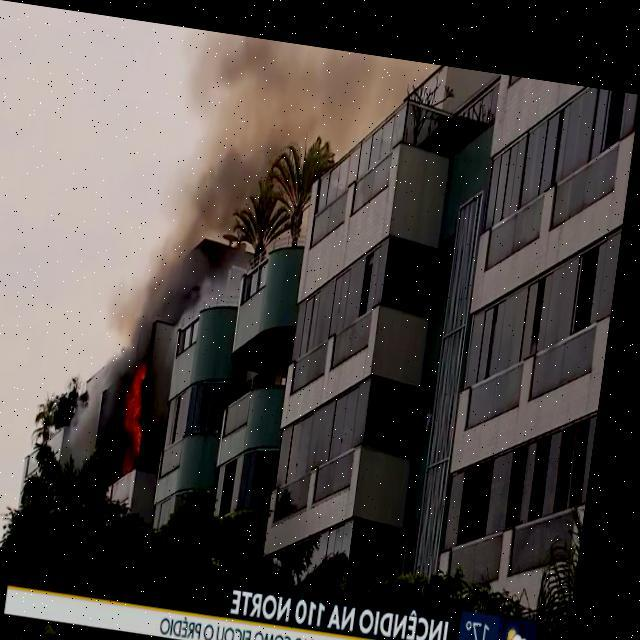Fire: (129, 354, 163, 458)
